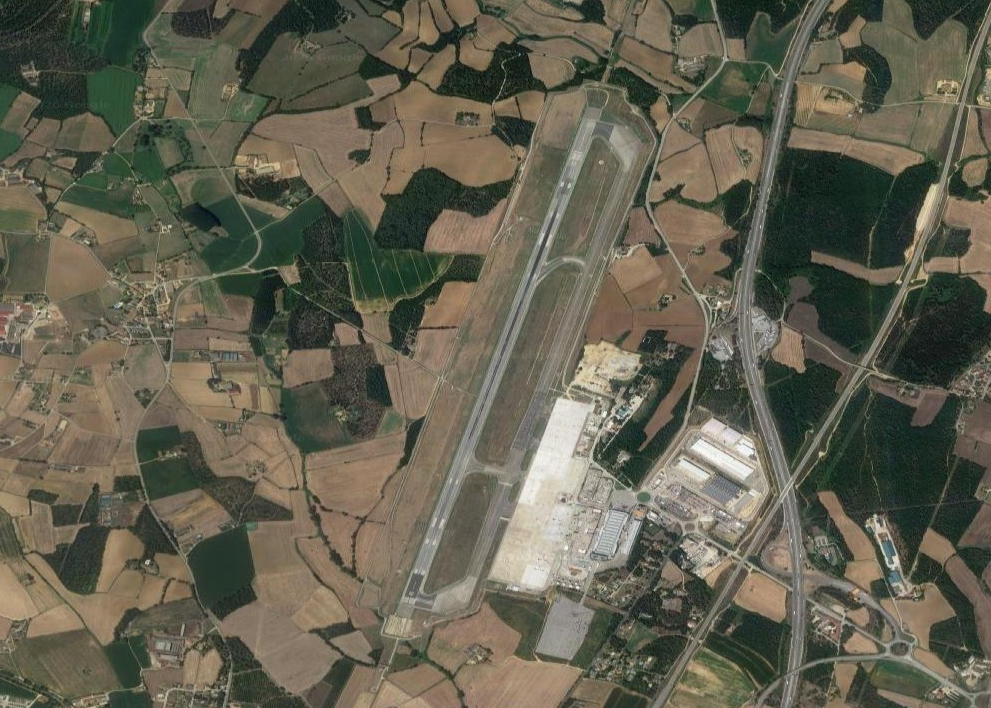airport: (381, 105, 645, 641)
motorway: (768, 1, 831, 137), (940, 4, 991, 164), (654, 619, 712, 708), (703, 531, 761, 620), (759, 443, 817, 532), (863, 266, 916, 363), (811, 357, 865, 447), (736, 349, 787, 442), (907, 163, 947, 269), (731, 240, 768, 348), (744, 135, 781, 243)
